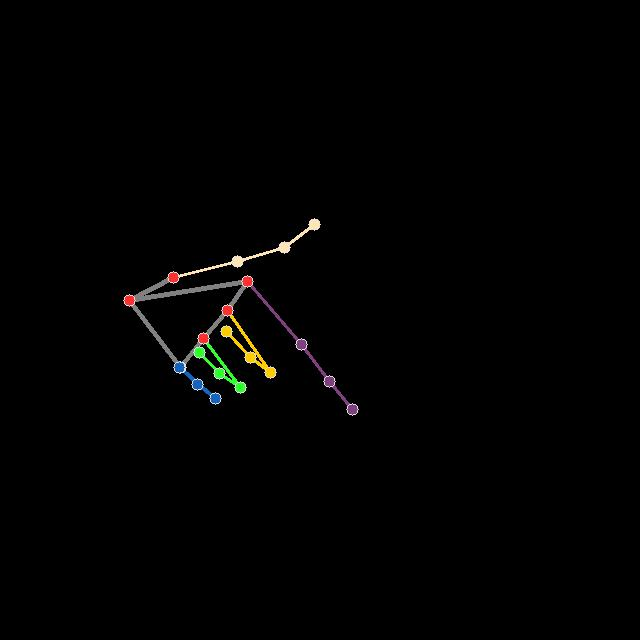gun: (121, 215, 371, 420)
